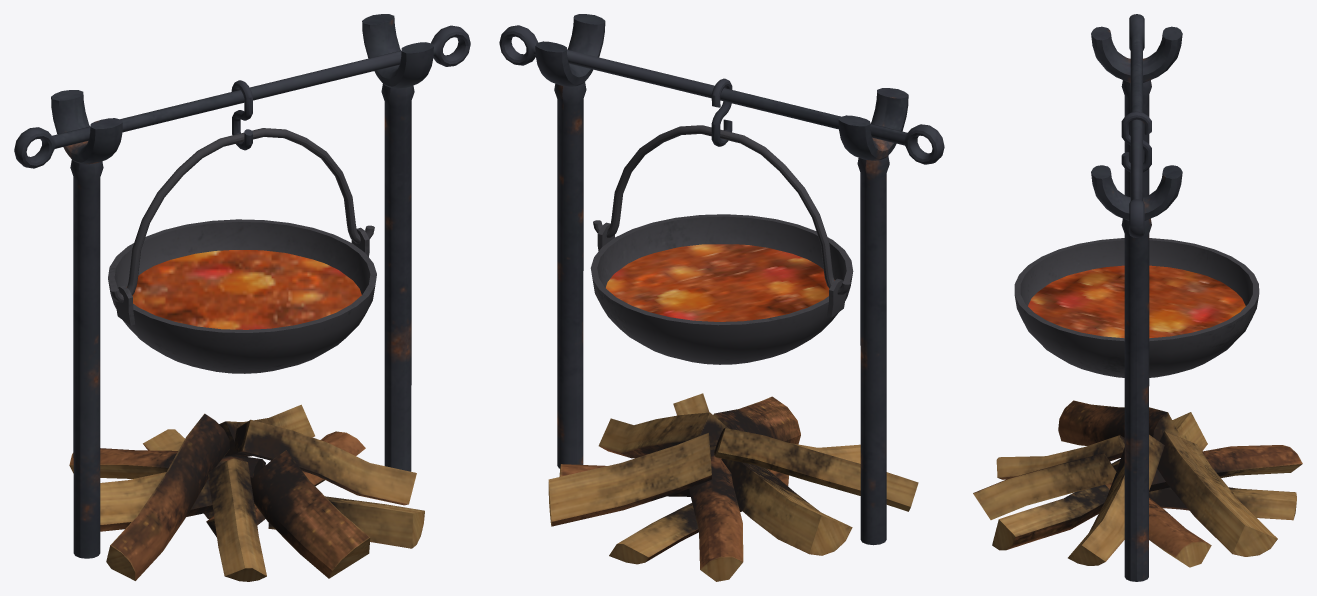
The model's file is sb_obj_outdoor035_bonfire03.fbx.
3 renders of one model, left to right at view 1: azimuth 30°, elevation 25°; view 2: azimuth 150°, elevation 25°; view 3: azimuth 270°, elevation 25°, orthographic. The views are drawn at different scales.
Parts seen in each view (by area): view 1: bonfire03, bonfire03_food; view 2: bonfire03, bonfire03_food; view 3: bonfire03, bonfire03_food.
Part boxes in pixels (x1=…): bonfire03: x1=14, y1=14, x2=470, y2=581; bonfire03_food: x1=126, y1=250, x2=361, y2=329; bonfire03: x1=499, y1=14, x2=944, y2=581; bonfire03_food: x1=606, y1=244, x2=834, y2=321; bonfire03: x1=973, y1=14, x2=1302, y2=581; bonfire03_food: x1=1028, y1=265, x2=1245, y2=338.
Size of the model in its own units: 0.8167 by 0.7715 by 0.5637.
